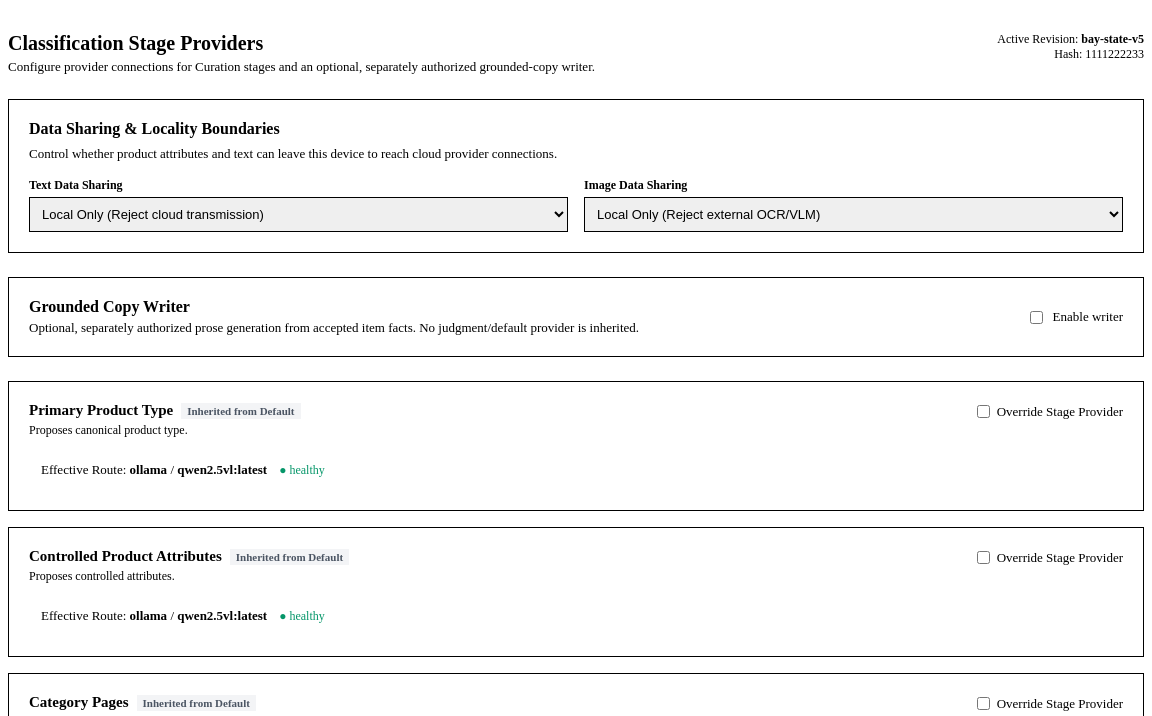
Scenario: ClassificationProviderSettings UI › displays warning when TypeSafe Jev adapter is selected on unwired stage
The image size is (1152, 716).
Click the checkbox labelled "Override Stage Provider" in the row of "Primary Product Type": (983, 412) [977,405,990,418]
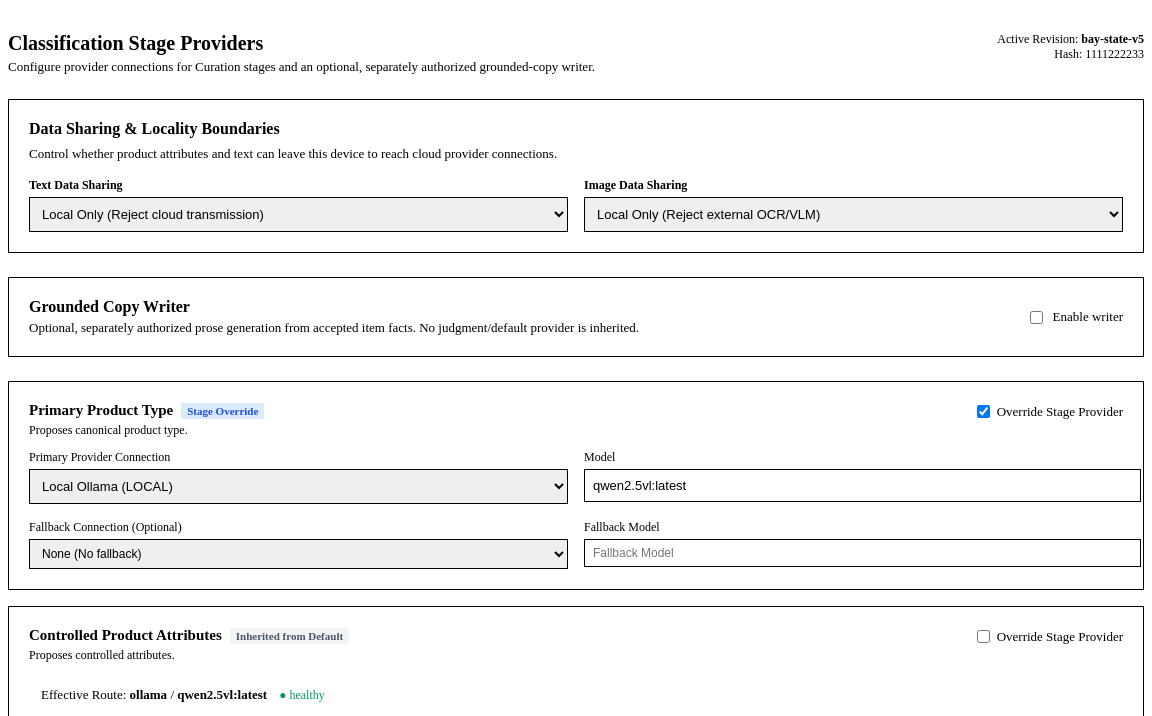
expect the dropdown below "Primary Provider Connection" is shown: met
Select "TypeSafe Jev (CLOUD) ⚠️ (Adapter Unwired)" in the dropdown below "Primary Provider Connection": (298, 486) [29,469,568,504]
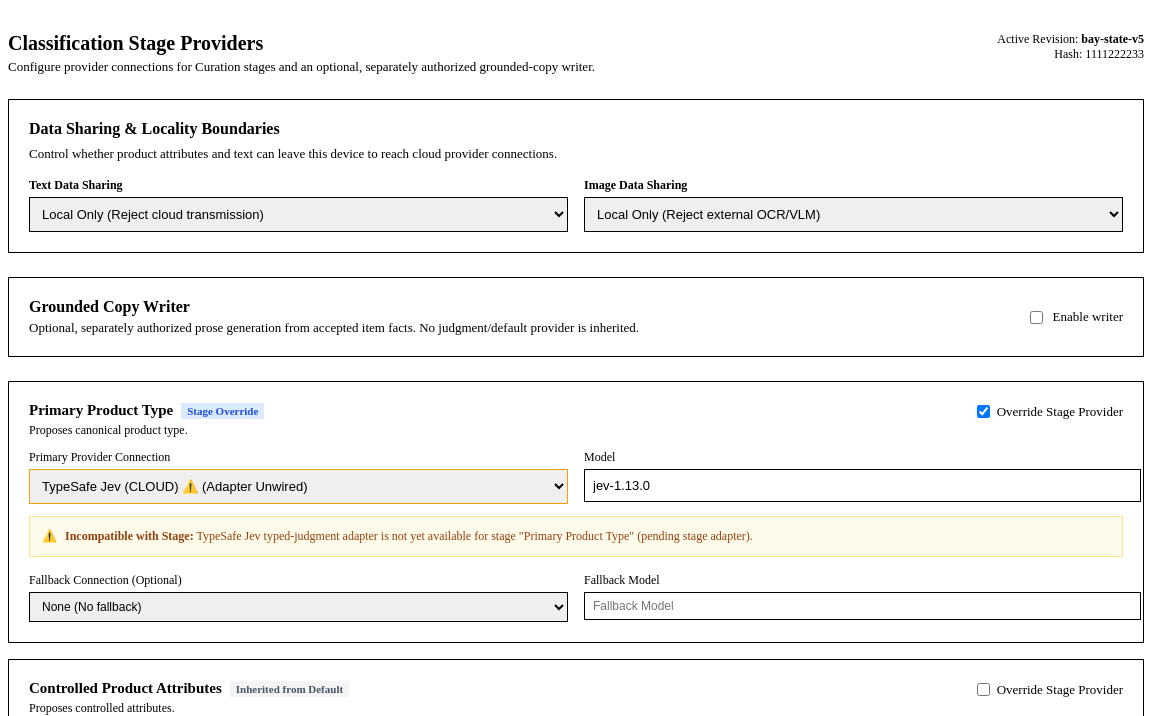
expect the text "TypeSafe Jev typed-judgment adapter is not yet available" is shown: met, box [196,529,753,543]
expect the text "pending stage adapter" is shown: met, box [196,529,753,543]
